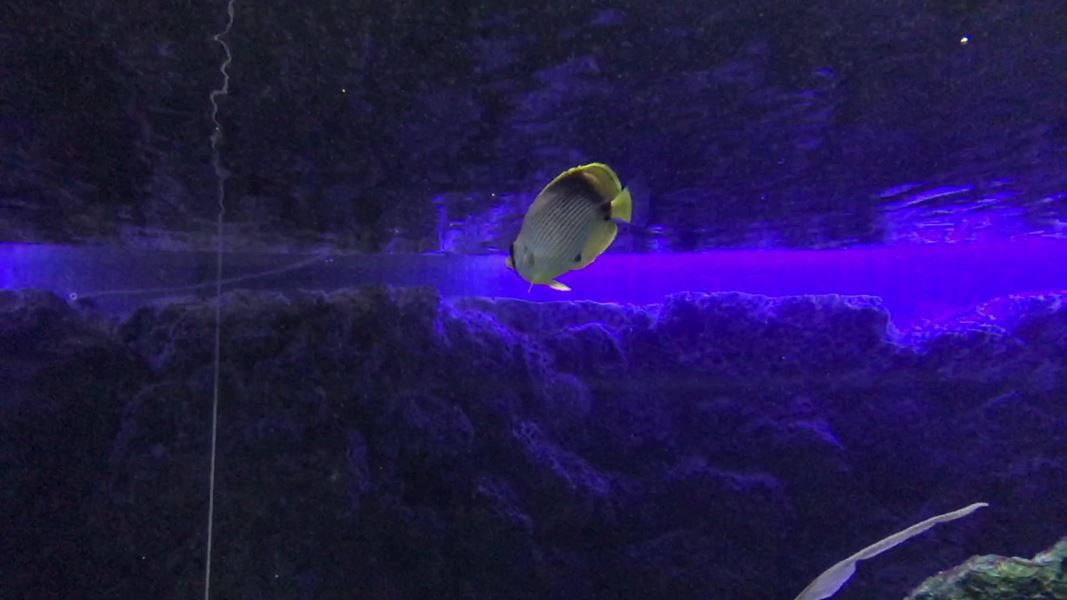Black-backed butterflyfish: (497, 151, 662, 301)
